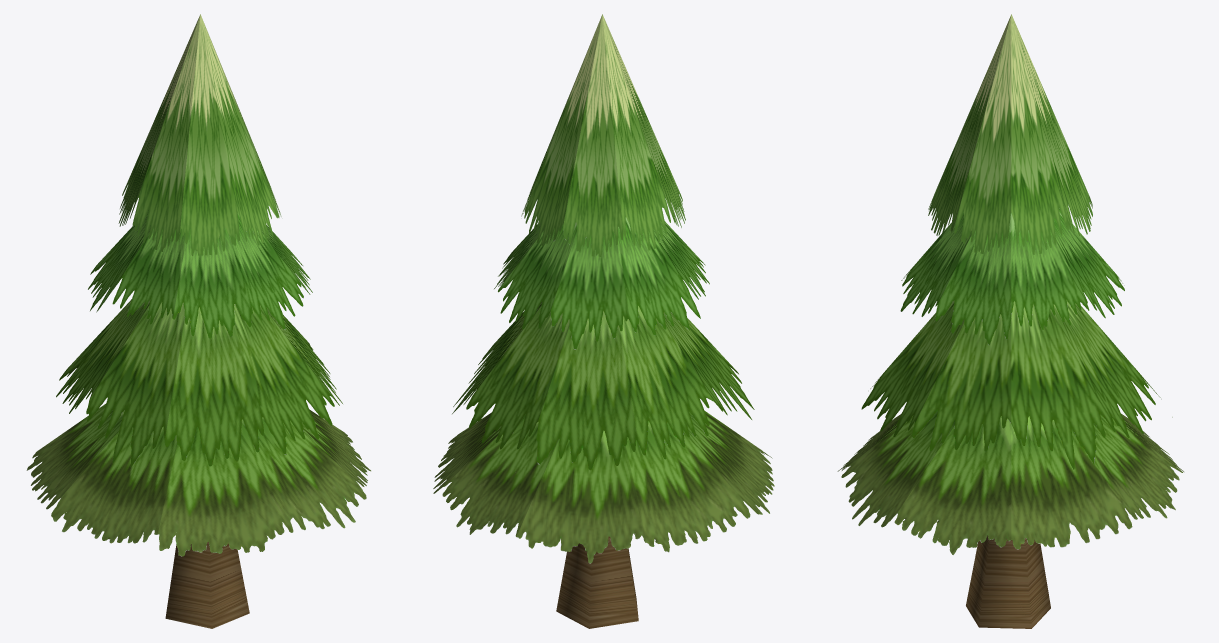
Rendered from tree.FBX.
3 renders of one model, left to right at view 1: azimuth 30°, elevation 25°; view 2: azimuth 150°, elevation 25°; view 3: azimuth 270°, elevation 25°, orthographic.
Visible parts, largest first — view 1: Object20; view 2: Object20; view 3: Object20.
Part boxes in pixels (<box>): Object20: <box>26,14,370,628</box>; Object20: <box>433,14,774,628</box>; Object20: <box>837,14,1184,628</box>.
Size of the model in its own units: 8.06 by 13.74 by 8.06.
